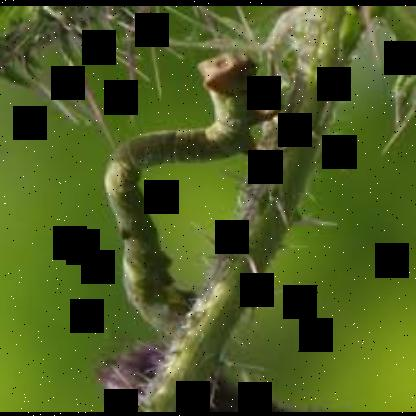oruga: (90, 40, 286, 356)
